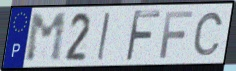2: (64, 11, 92, 63)
C: (191, 11, 225, 58)
F: (123, 9, 162, 63), (158, 9, 195, 60)
I: (95, 11, 112, 62)
M: (25, 11, 69, 65)
